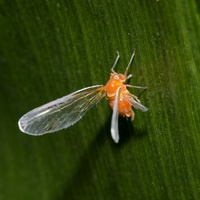insect: (18, 51, 147, 142)
